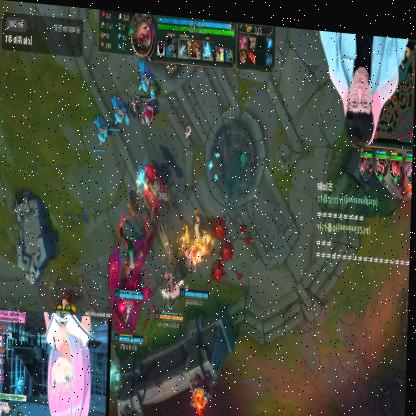donation: (0, 300, 114, 416)
streamer: (315, 25, 408, 145)
